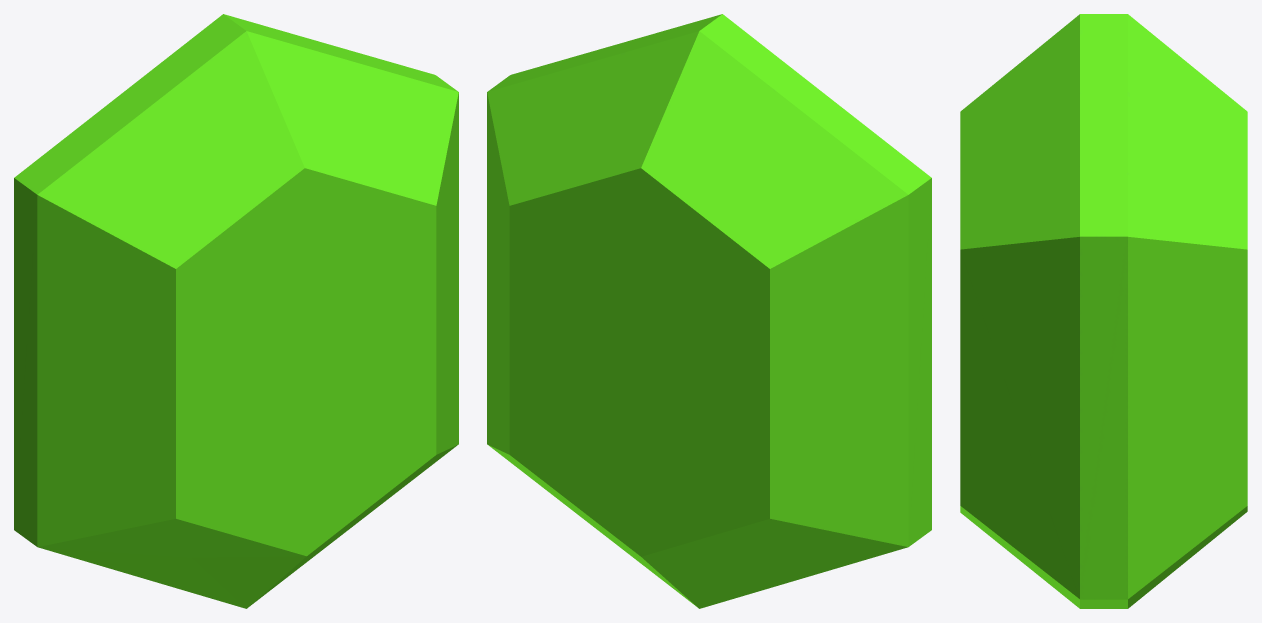
Rendered from COC_Gem.fbx.
3 views of the same model, side by side, from view 1: azimuth 30°, elevation 25°; view 2: azimuth 150°, elevation 25°; view 3: azimuth 270°, elevation 25° (orthographic). The views are drawn at different scales.
Visible parts, largest first — view 1: node_id3; view 2: node_id3; view 3: node_id3.
Part boxes in pixels (x1=…): node_id3: x1=14, y1=14, x2=458, y2=608; node_id3: x1=487, y1=14, x2=931, y2=608; node_id3: x1=960, y1=14, x2=1247, y2=608.
Size of the model in its own units: 0.3907 by 0.512 by 0.2239.
Materials: 1 (1 with a texture image).
